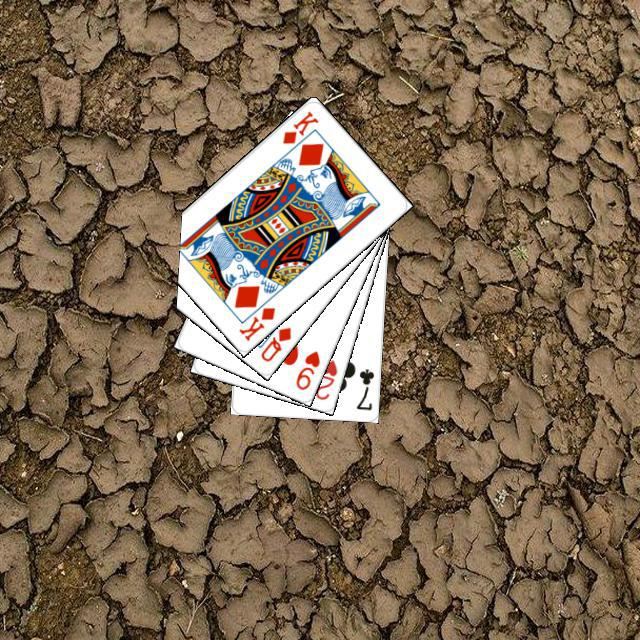2h: (310, 355, 339, 402)
7c: (351, 364, 376, 412)
9h: (291, 345, 322, 392)
Kd: (234, 302, 277, 343), (277, 106, 320, 146)
Qd: (256, 322, 293, 363)
